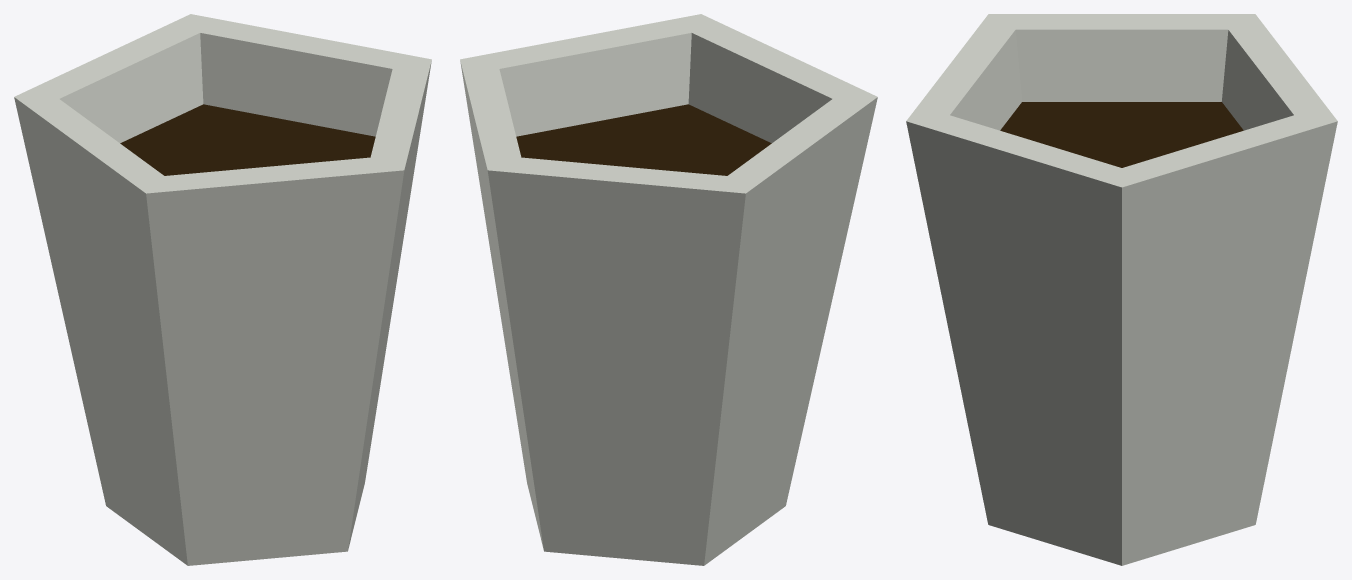
File: cup_full_1.fbx
The picture shows the model from 3 angles, left to right: view 1: azimuth 30°, elevation 25°; view 2: azimuth 150°, elevation 25°; view 3: azimuth 270°, elevation 25°; orthographic projection.
Visible parts, largest first — view 1: cup_full_1; view 2: cup_full_1; view 3: cup_full_1.
Part boxes in pixels (x1,y1,x2,y2): cup_full_1: (14,14,431,565); cup_full_1: (460,14,877,565); cup_full_1: (906,14,1337,565).
Size of the model in its own units: 0.6046 by 0.6685 by 0.6358.
